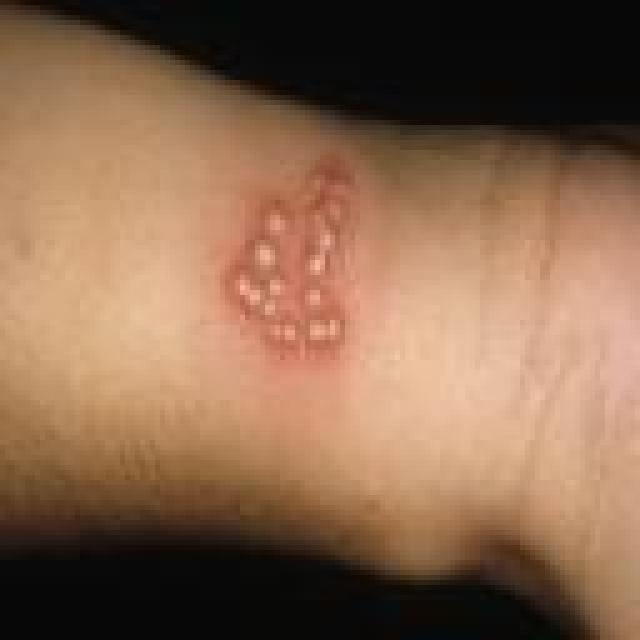Shingles: (229, 157, 356, 354)
